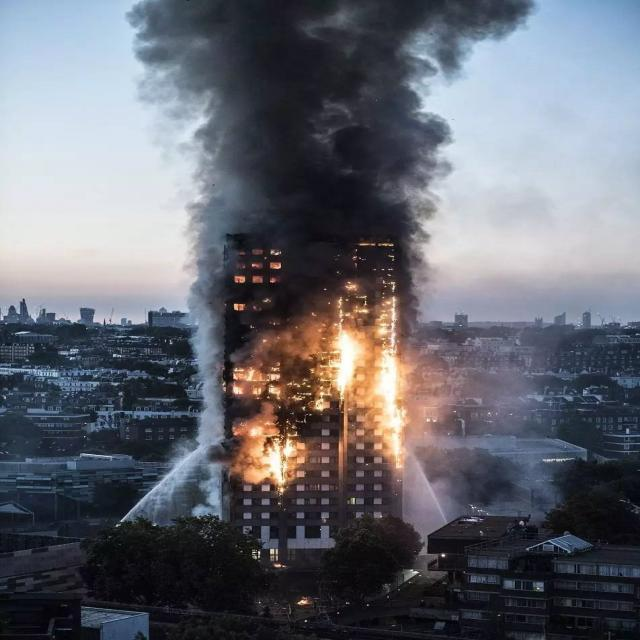Fire: (238, 416, 298, 486), (374, 359, 406, 457), (326, 328, 358, 396)
Smoke: (128, 0, 526, 291), (180, 289, 223, 444)
